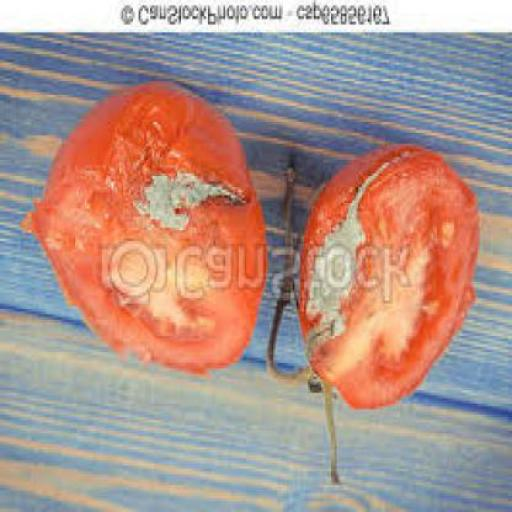biodegradable: (20, 84, 263, 382), (266, 152, 477, 490)
